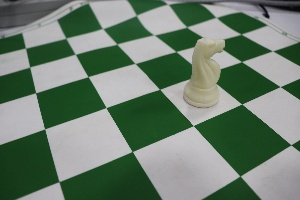white_horse: (179, 24, 232, 120)
